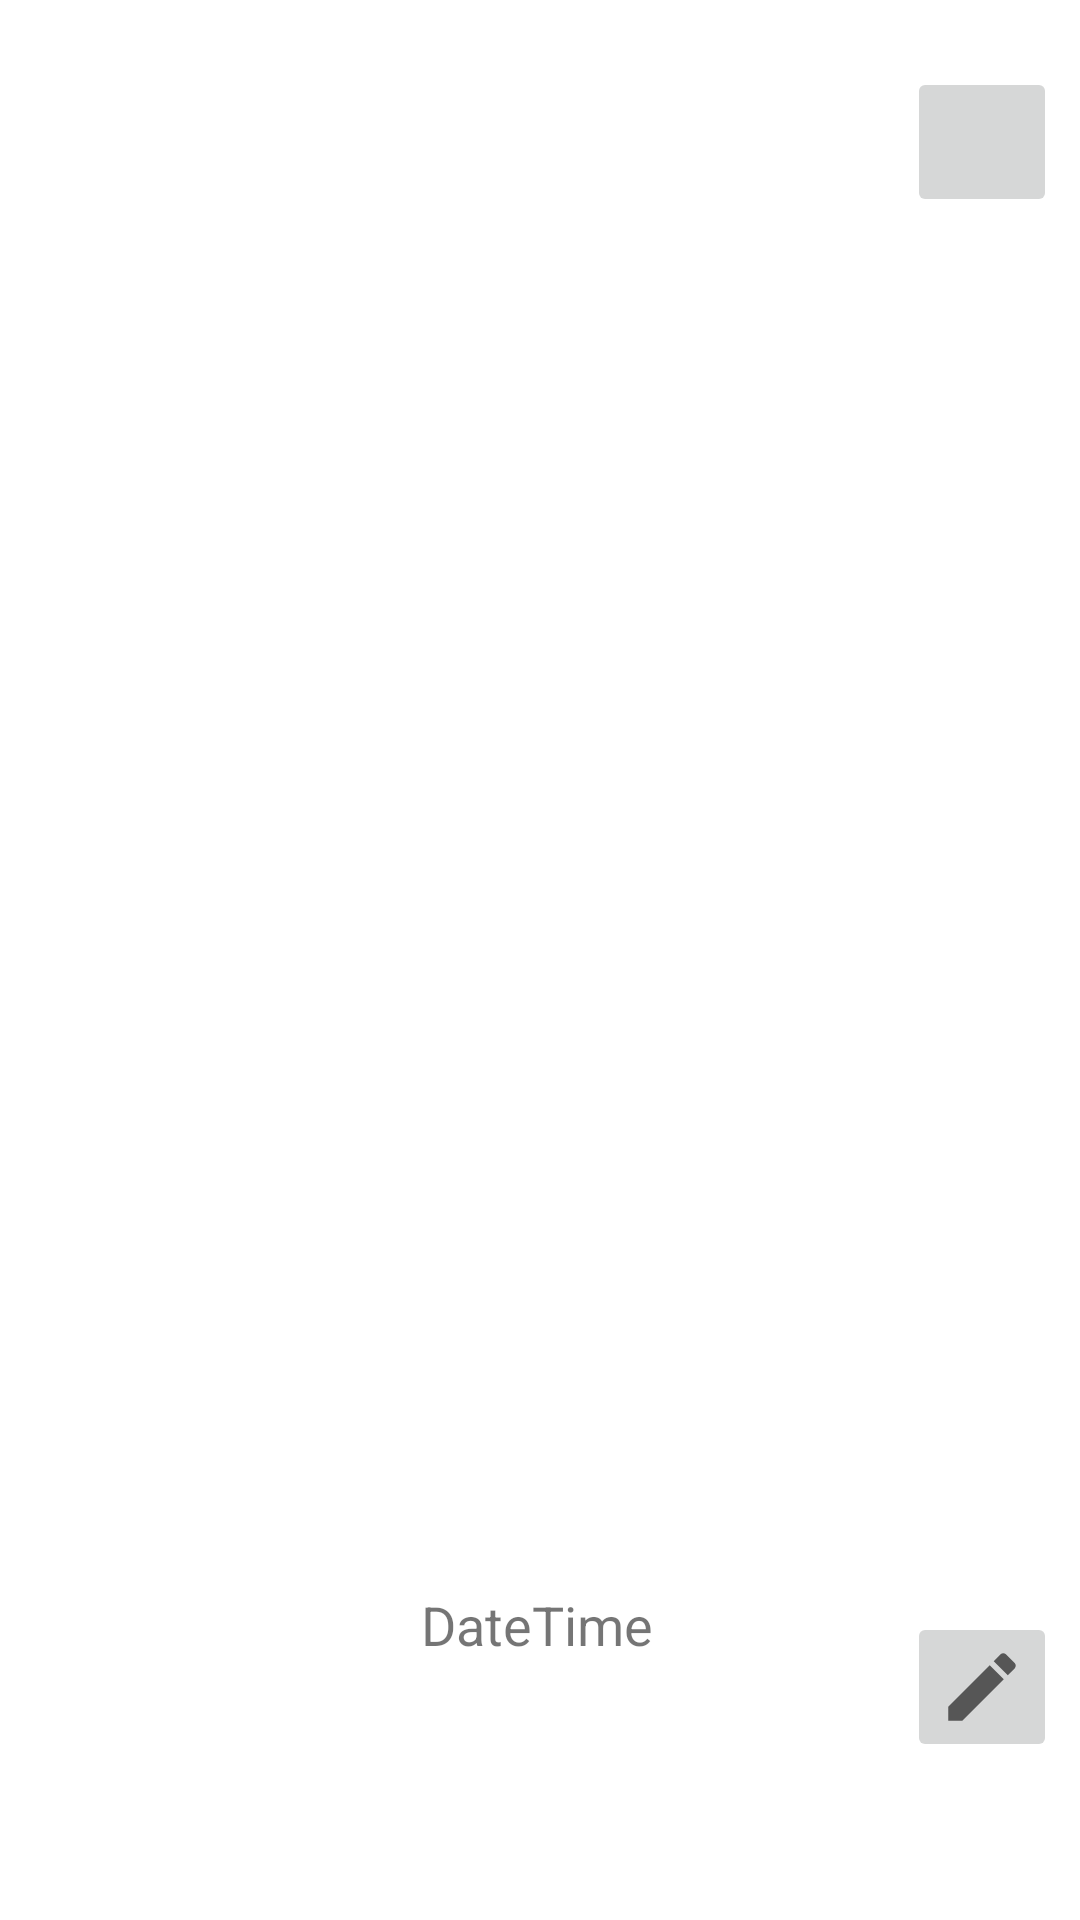

Icon bounding boxes for this 1080*1920 phone screenshot, format (x1, y1, x2, y2):
edit: (919, 1630, 1045, 1744)
